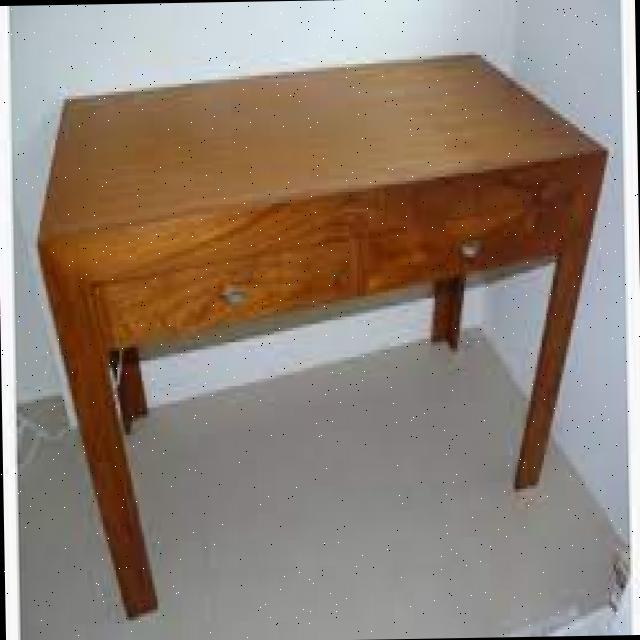Table: (28, 45, 620, 622)
